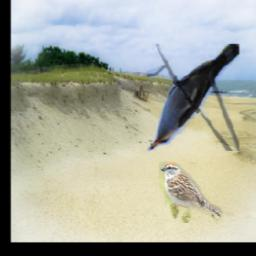Cuckoo: (147, 44, 239, 151)
Sparrow: (160, 163, 224, 224)
